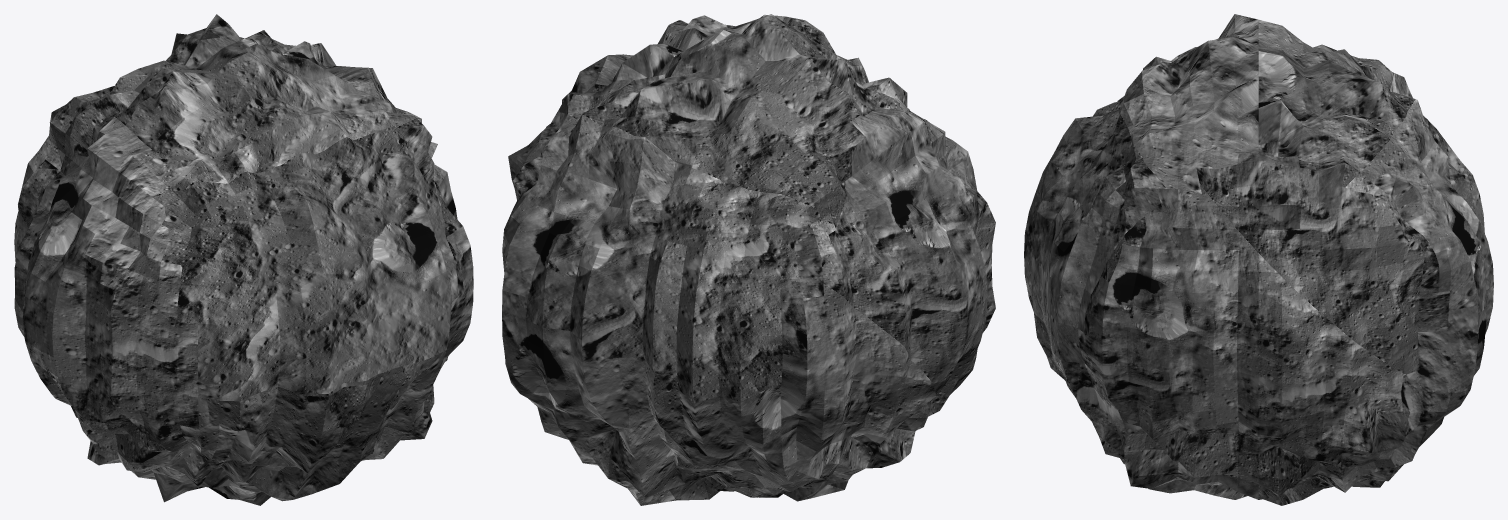
File: asteroid53.obj
The picture shows the model from 3 angles, left to right: view 1: azimuth 30°, elevation 25°; view 2: azimuth 150°, elevation 25°; view 3: azimuth 270°, elevation 25°; orthographic projection. The views are drawn at different scales.
Visible parts, largest first — view 1: Cube_Cube.002; view 2: Cube_Cube.002; view 3: Cube_Cube.002.
Part boxes in pixels (left/top/right/bottom): Cube_Cube.002: left=14, top=14, right=473, bottom=505; Cube_Cube.002: left=502, top=14, right=995, bottom=505; Cube_Cube.002: left=1024, top=14, right=1493, bottom=505.
Bounding box in the file's own units: 1.74 × 1.81 × 1.69.
